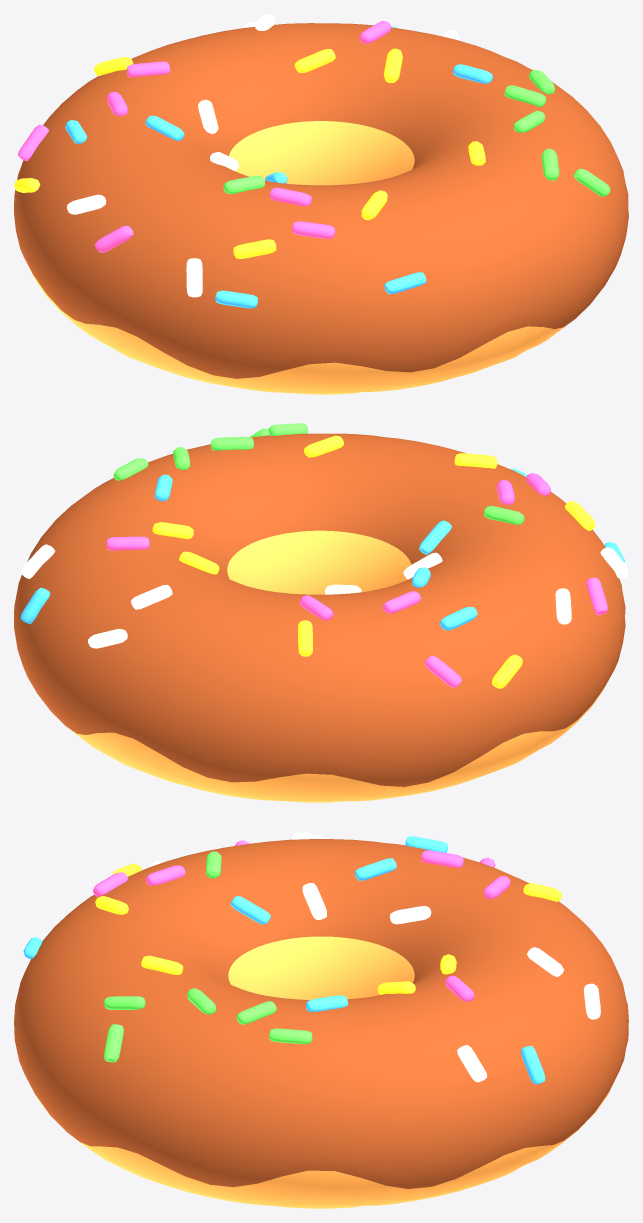
3 views of the same model, one above another, from view 1: azimuth 30°, elevation 25°; view 2: azimuth 150°, elevation 25°; view 3: azimuth 270°, elevation 25° (orthographic).
Parts seen in each view (by area): view 1: Donut-whole; view 2: Donut-whole; view 3: Donut-whole.
Part boxes in pixels (x1,y1,x2,y2): Donut-whole: [14, 14, 628, 394]; Donut-whole: [14, 423, 628, 802]; Donut-whole: [14, 831, 628, 1208].
Size of the model in its own units: 0.0735 by 0.0257 by 0.0739.
